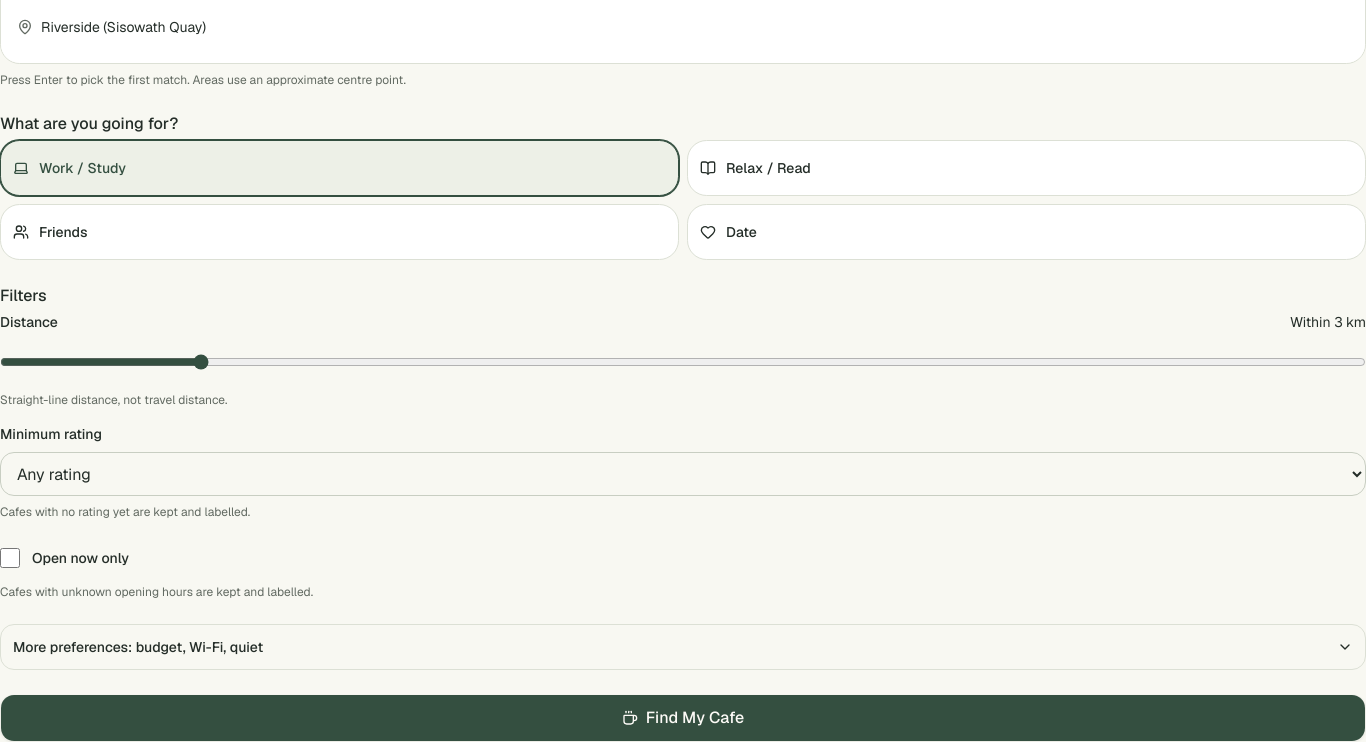
Test: DiscoveryForm › requires a location before searching
(page scrolled)
What coordinates should you click on to do the following:
click the button "Find My Cafe"
I would click on:
 (683, 718)
Its box is [0,694,1365,741].
(page scrolled)
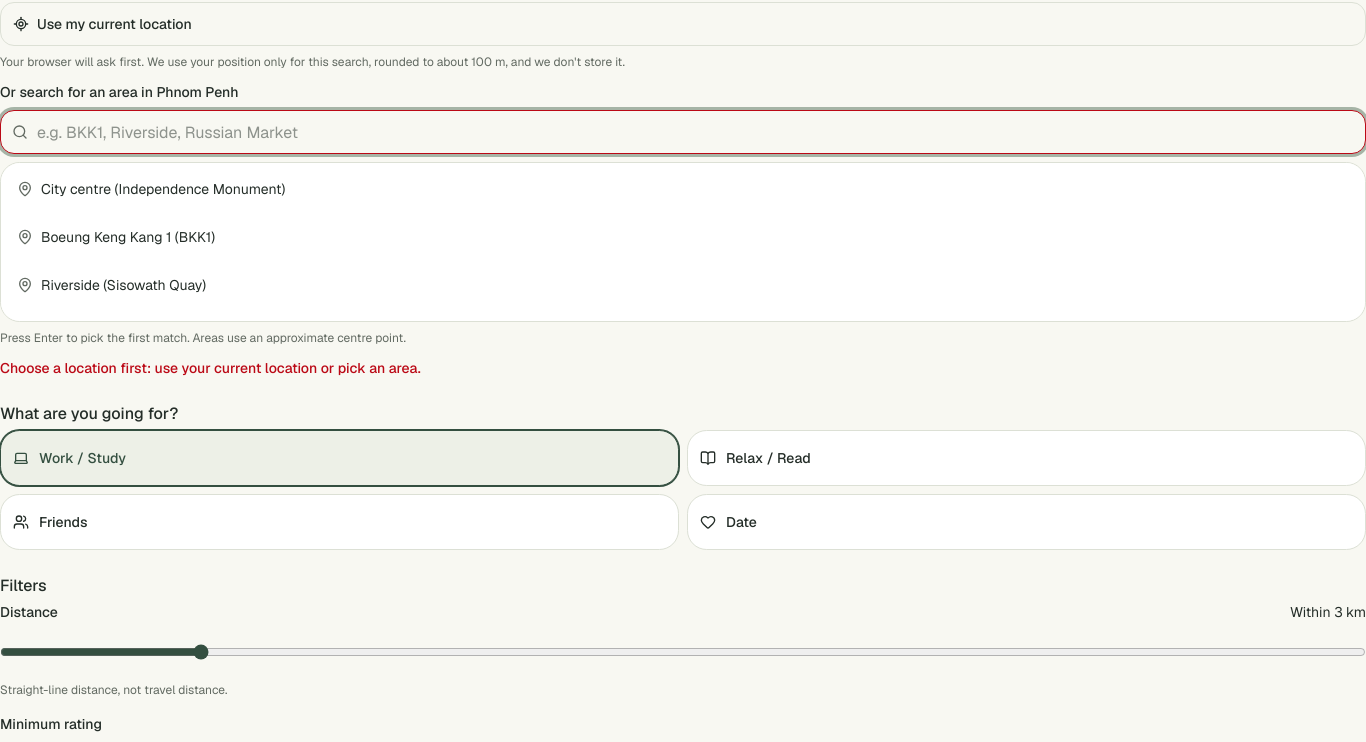
Now the text "Choose a location first" is shown, box [0,359,421,377]
